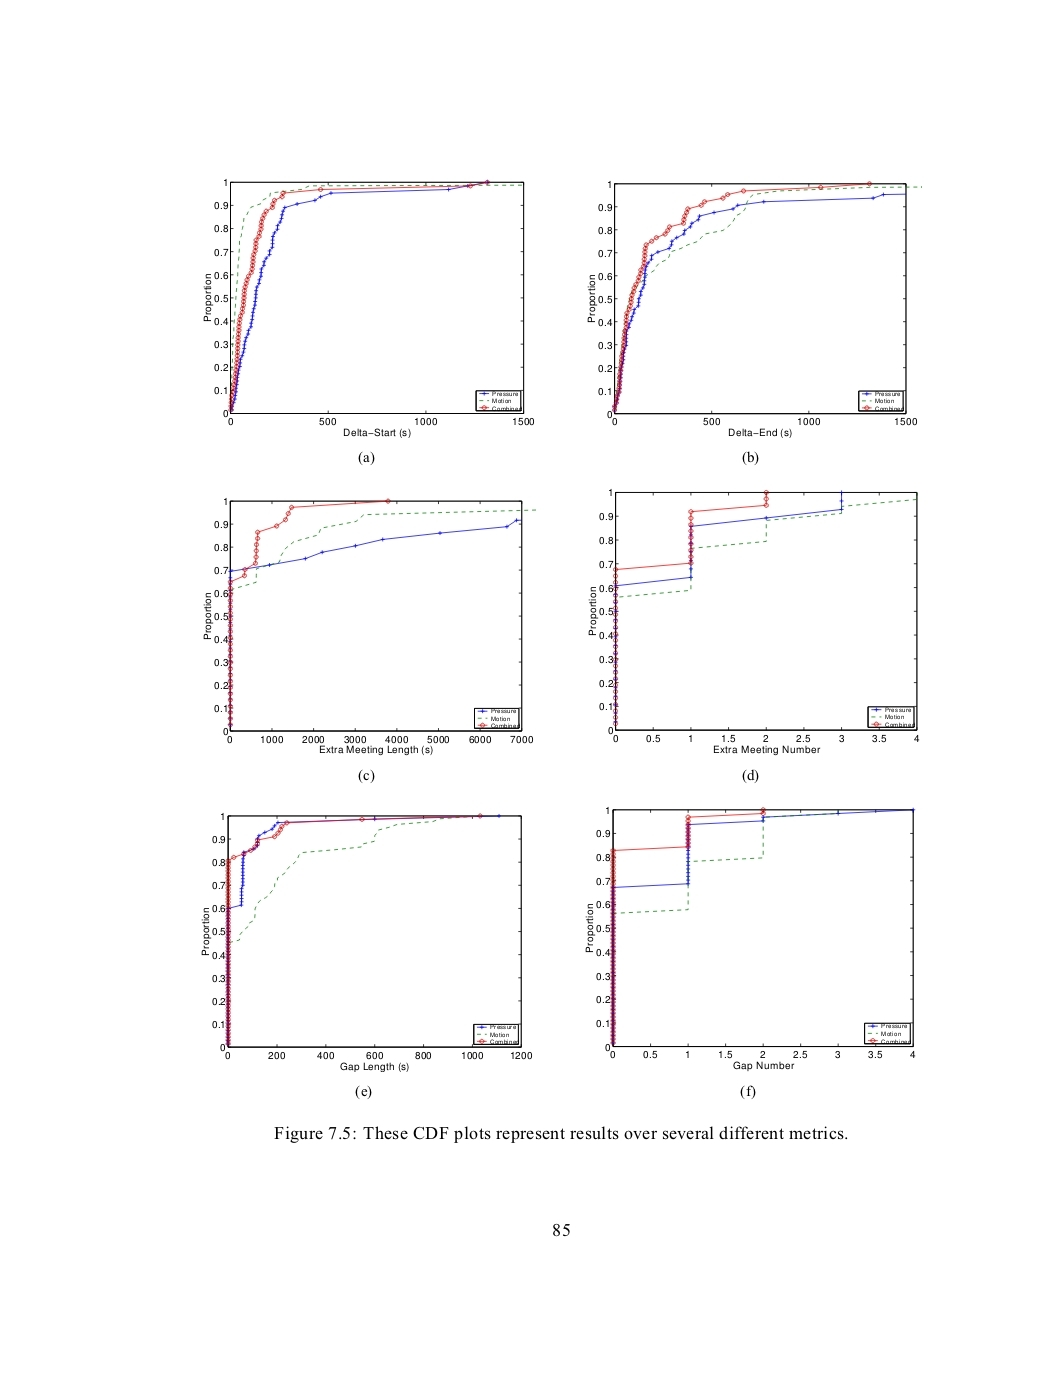figure: (588, 488, 919, 756), (585, 805, 915, 1072), (203, 497, 535, 756), (587, 181, 921, 438), (203, 178, 533, 438), (201, 812, 530, 1072)
